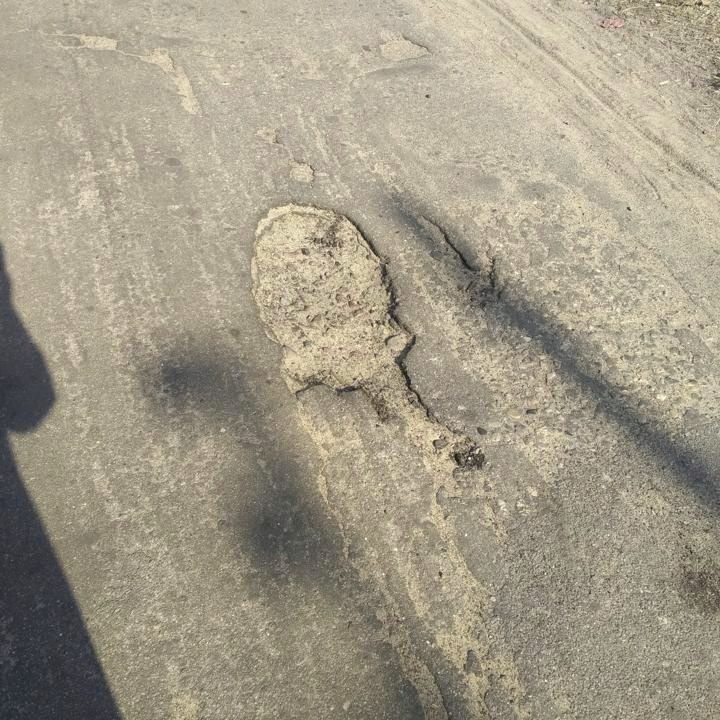pothole: (243, 196, 483, 465), (413, 211, 503, 305), (136, 46, 206, 118), (372, 25, 433, 64), (58, 29, 120, 51), (285, 158, 318, 183)
